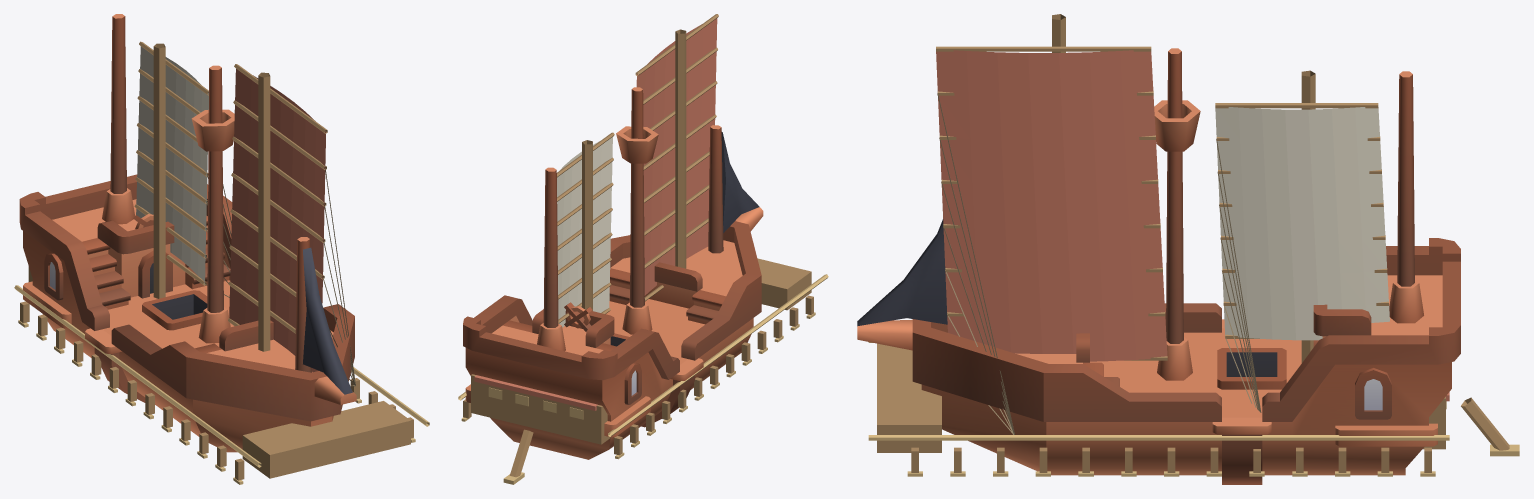
The model's file is junk-custom.glb.
The picture shows the model from 3 angles, left to right: view 1: azimuth 30°, elevation 25°; view 2: azimuth 150°, elevation 25°; view 3: azimuth 270°, elevation 25°; orthographic projection. The views are drawn at different scales.
Parts seen in each view (by area): view 1: ship-pirate-large, junk wood, junk red, junk linen, junk bronze, junk rope; view 2: ship-pirate-large, junk wood, junk red, junk linen, junk bronze; view 3: ship-pirate-large, junk red, junk linen, junk wood, junk bronze, junk rope.
Part boxes in pixels (x1,y1,x2,y2): ship-pirate-large: (19,14,356,452); junk wood: (20,41,413,480); junk red: (229,69,326,372); junk linen: (136,46,208,283); junk bronze: (14,285,429,484); junk rope: (205,168,355,386); ship-pirate-large: (463,87,763,459); junk wood: (463,14,813,477); junk red: (474,18,717,410); junk linen: (557,137,612,327); junk bronze: (458,274,828,484); ship-pirate-large: (857,48,1460,484); junk red: (936,50,1449,401); junk linen: (1215,107,1389,340); junk wood: (877,14,1509,472); junk bronze: (868,342,1519,476); junk rope: (937,93,1261,434).
Size of the model in its own units: 5.28 by 10.15 by 13.8.
Materials: 6 (1 with a texture image).
